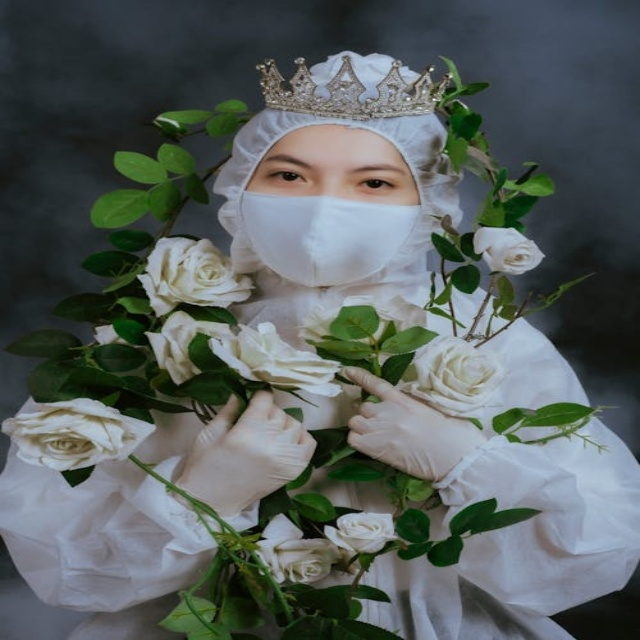Guantes: (171, 388, 318, 519), (344, 365, 490, 485)
Mascara: (237, 191, 426, 288)
Sin_gafas: (268, 154, 401, 191)
